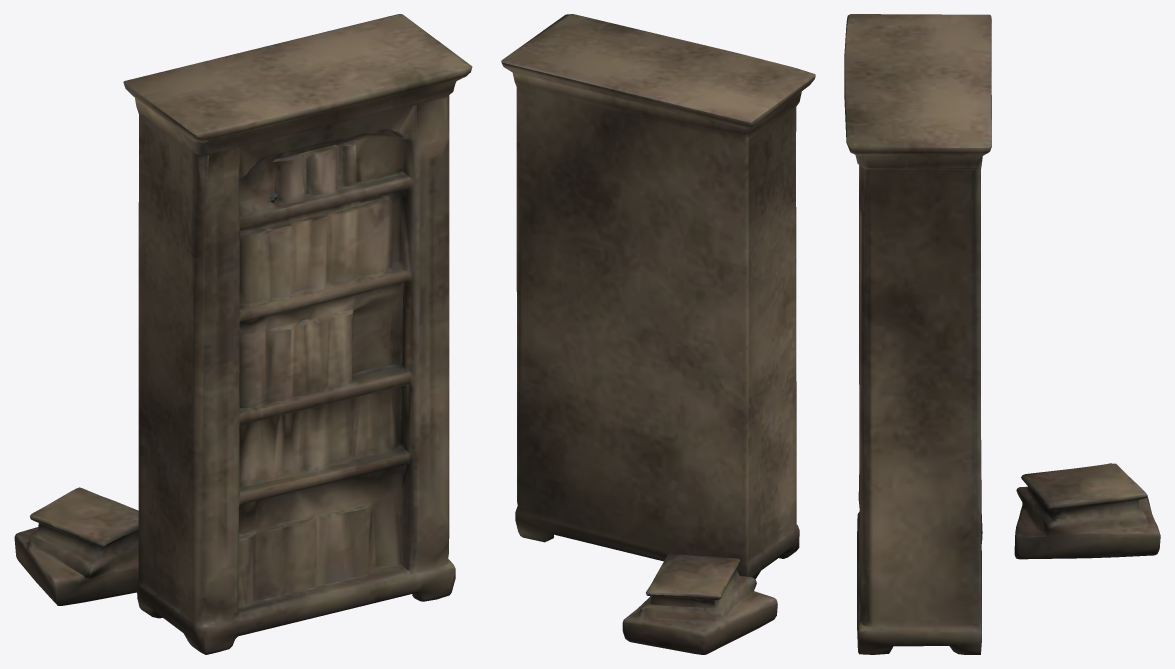
File: simple-wood-bookcase-v001.glb
3 views of the same model, side by side, from view 1: azimuth 30°, elevation 25°; view 2: azimuth 150°, elevation 25°; view 3: azimuth 270°, elevation 25° (orthographic). The views are drawn at different scales.
Visible parts, largest first — view 1: simple-wood-bookcase; view 2: simple-wood-bookcase; view 3: simple-wood-bookcase.
Boxes of the visible parts, x1,y1,x2,y2 form: simple-wood-bookcase: (14, 14, 472, 654); simple-wood-bookcase: (501, 14, 815, 654); simple-wood-bookcase: (844, 14, 1160, 654).
Bounding box in the file's own units: 1.5 × 2.32 × 1.28.
1 material, 1 textured.
